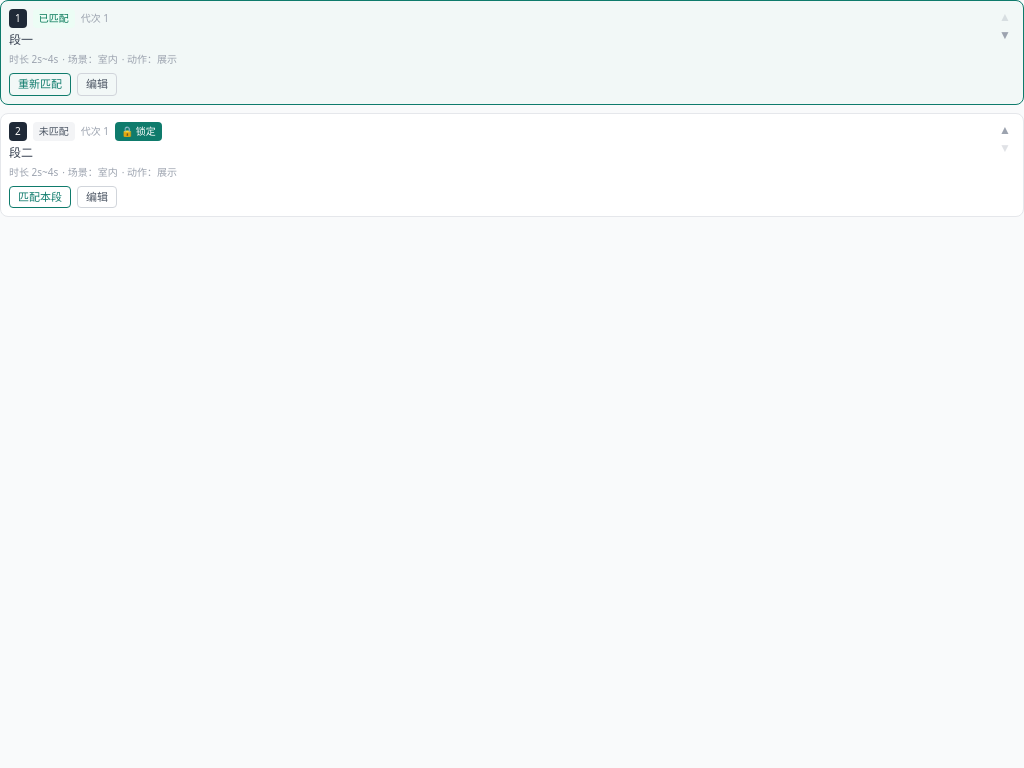
SegmentList › 保存 409 → 冲突提示
Click the 1st button with test id "seg-edit".
click(97, 84)  # box [77,73,117,96]
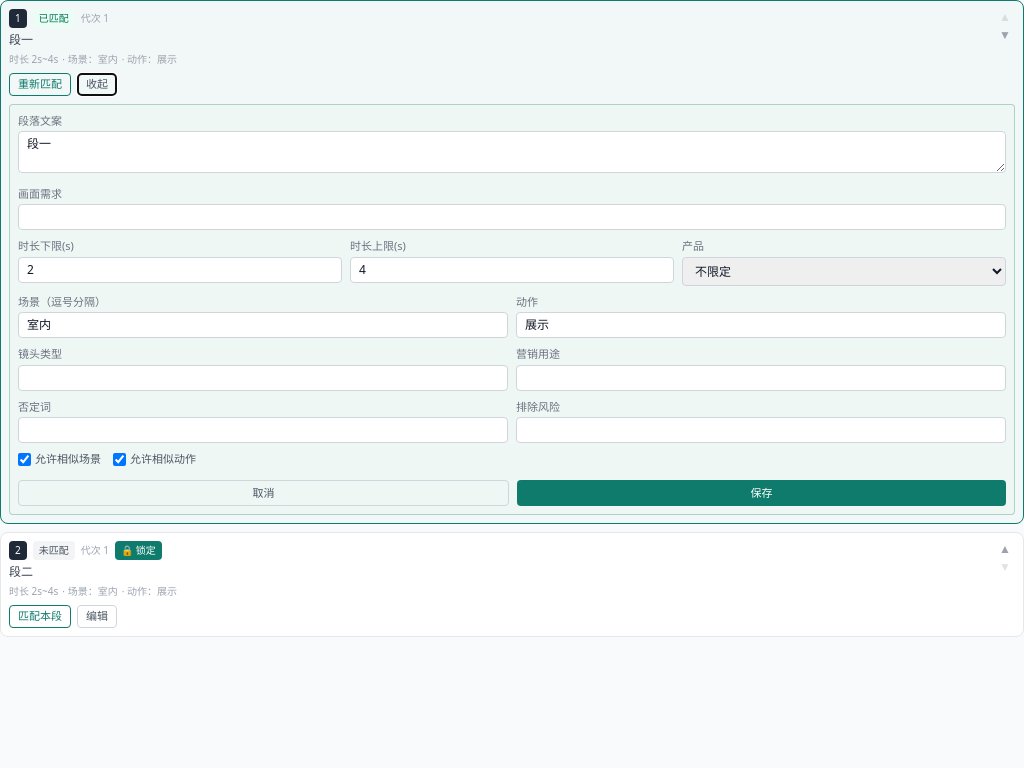
Click the button with test id "seg-save".
click(762, 493)  # box [517,480,1006,506]
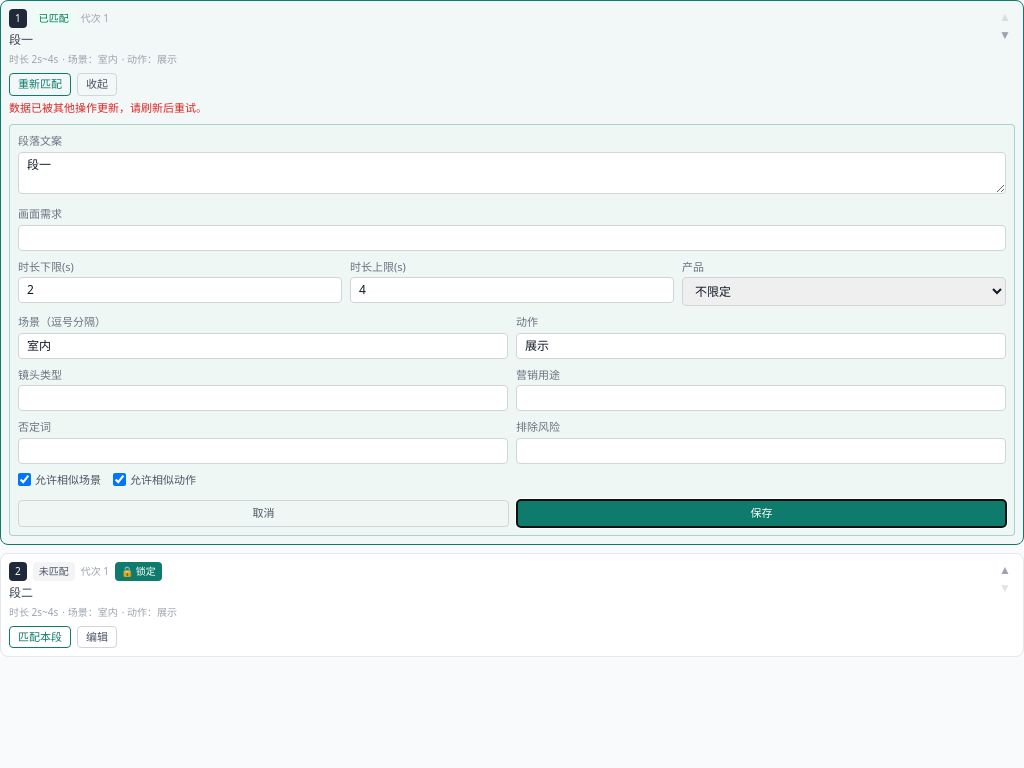
Expected: the message "数据已被其他操作更新，请刷新后重试。" is shown, [9,100,207,114]
